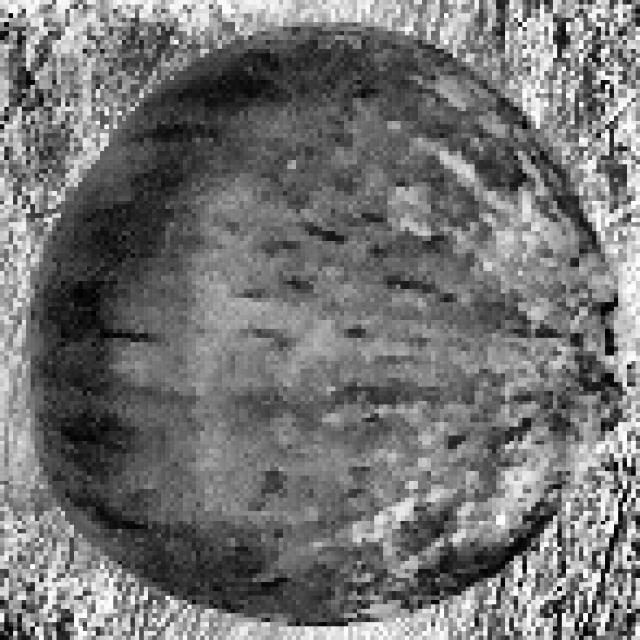qualityHazelnut: (4, 4, 640, 640)
